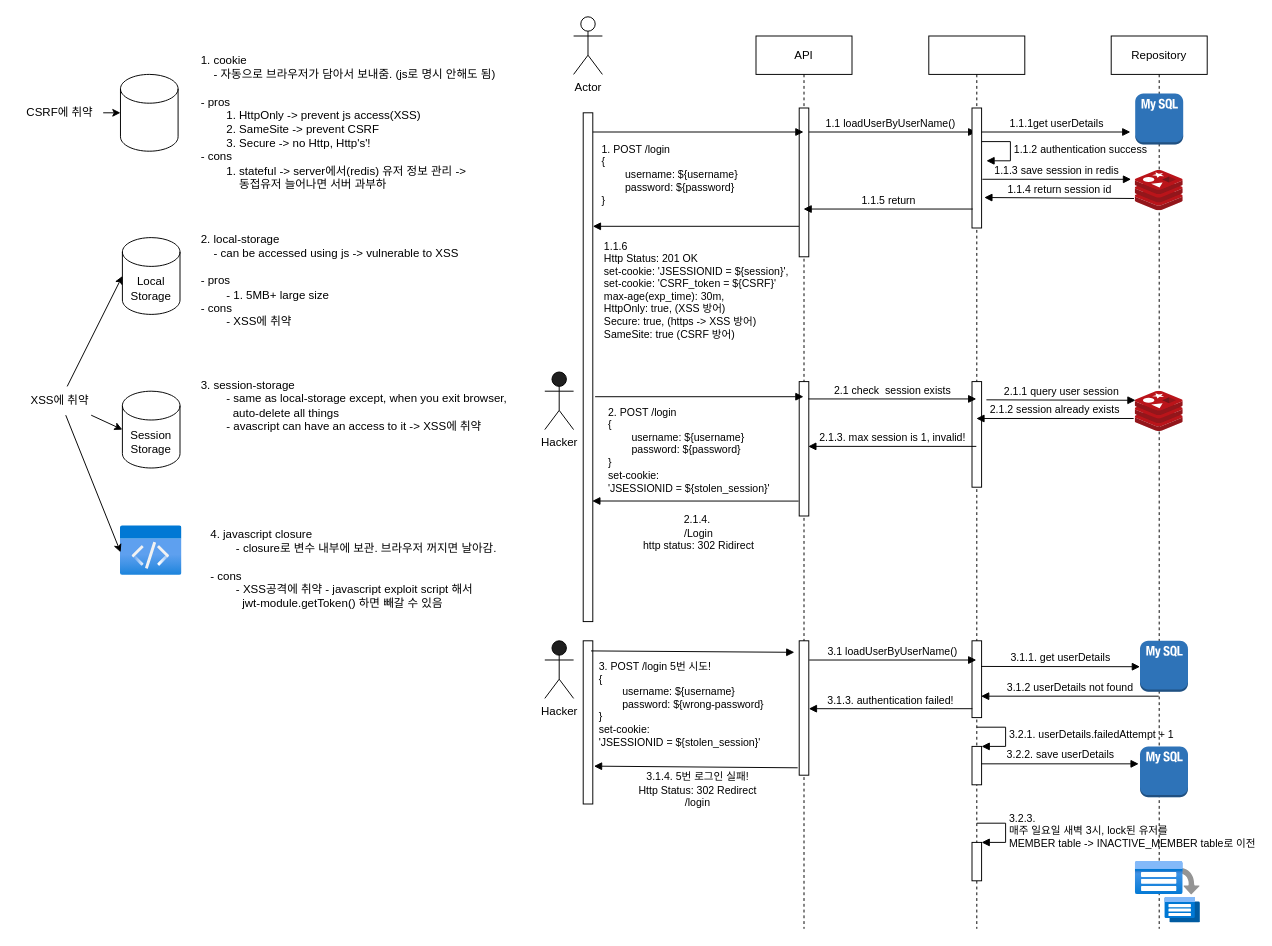
The diagram is 1272 pixels wide and 946 high, and some of its shapes have lost their labels. Here are the shapes that lost their labels. From the top down, the centre of each, then its label:
At pixel 149 112: "Cookie".
At pixel 976 482: "Service".
